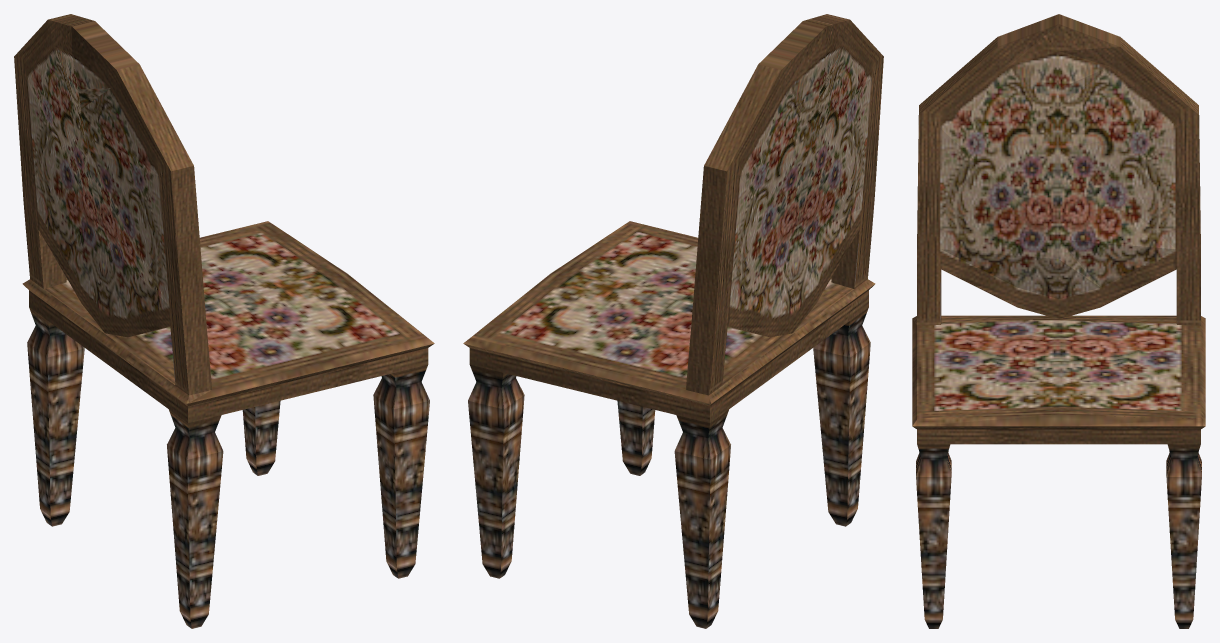
File: chair.fbx
The picture shows the model from 3 angles, left to right: view 1: azimuth 30°, elevation 25°; view 2: azimuth 150°, elevation 25°; view 3: azimuth 270°, elevation 25°; orthographic projection. The views are drawn at different scales.
Visible parts, largest first — view 1: Mesh1; view 2: Mesh1; view 3: Mesh1.
Boxes of the visible parts, x1,y1,x2,y2 form: Mesh1: (14, 14, 434, 628); Mesh1: (463, 14, 883, 628); Mesh1: (912, 14, 1205, 628).
Bounding box in the file's own units: 322 × 615 × 327.
